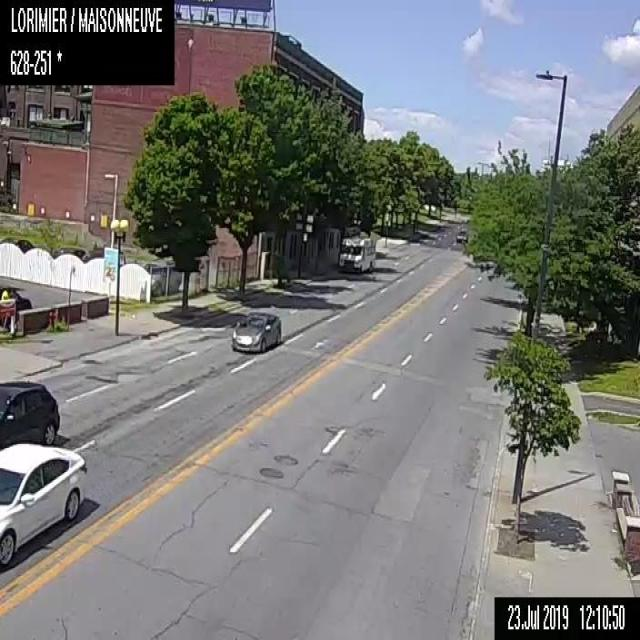vehicle: (0, 441, 87, 569), (0, 380, 59, 444), (231, 312, 281, 352), (338, 234, 378, 272), (142, 260, 180, 292), (456, 227, 468, 243)
